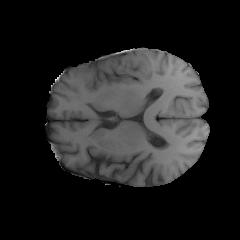glioma: (68, 66, 108, 99)
